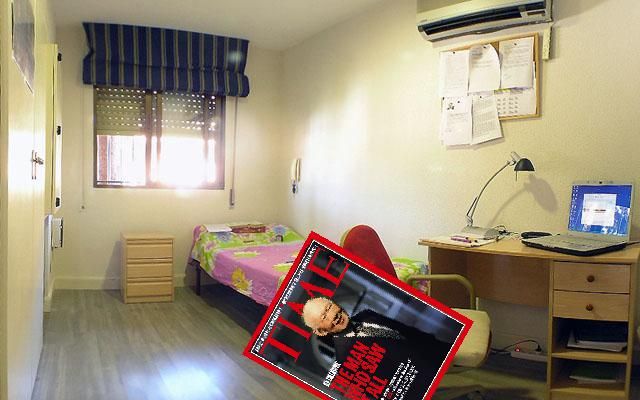times: (241, 229, 475, 399)
